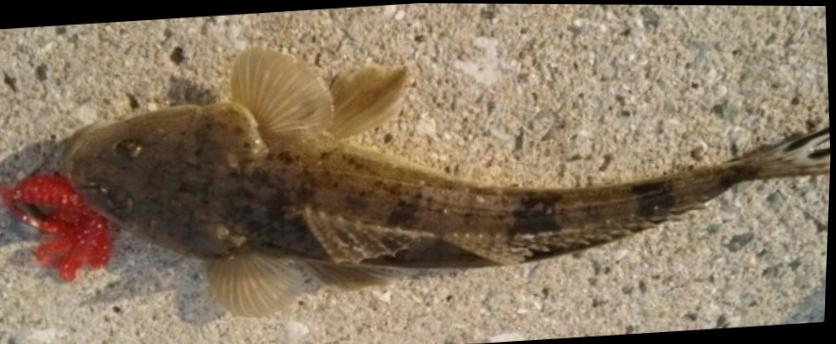fish: (63, 49, 831, 316)
